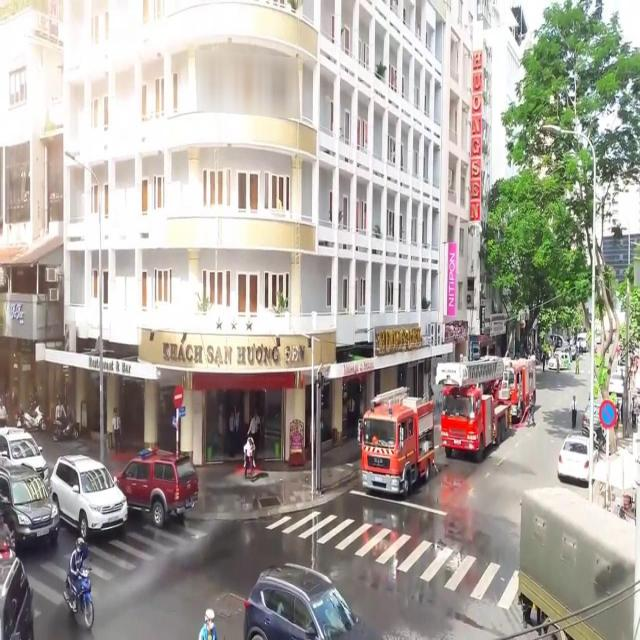car: (243, 562, 383, 639), (113, 443, 199, 525), (49, 452, 127, 534), (0, 462, 59, 550), (0, 426, 50, 486), (0, 555, 33, 640), (558, 432, 598, 485)
motorcycle: (60, 533, 94, 627)
truck: (517, 485, 640, 639), (361, 388, 435, 496), (440, 358, 508, 460), (488, 356, 534, 426)
